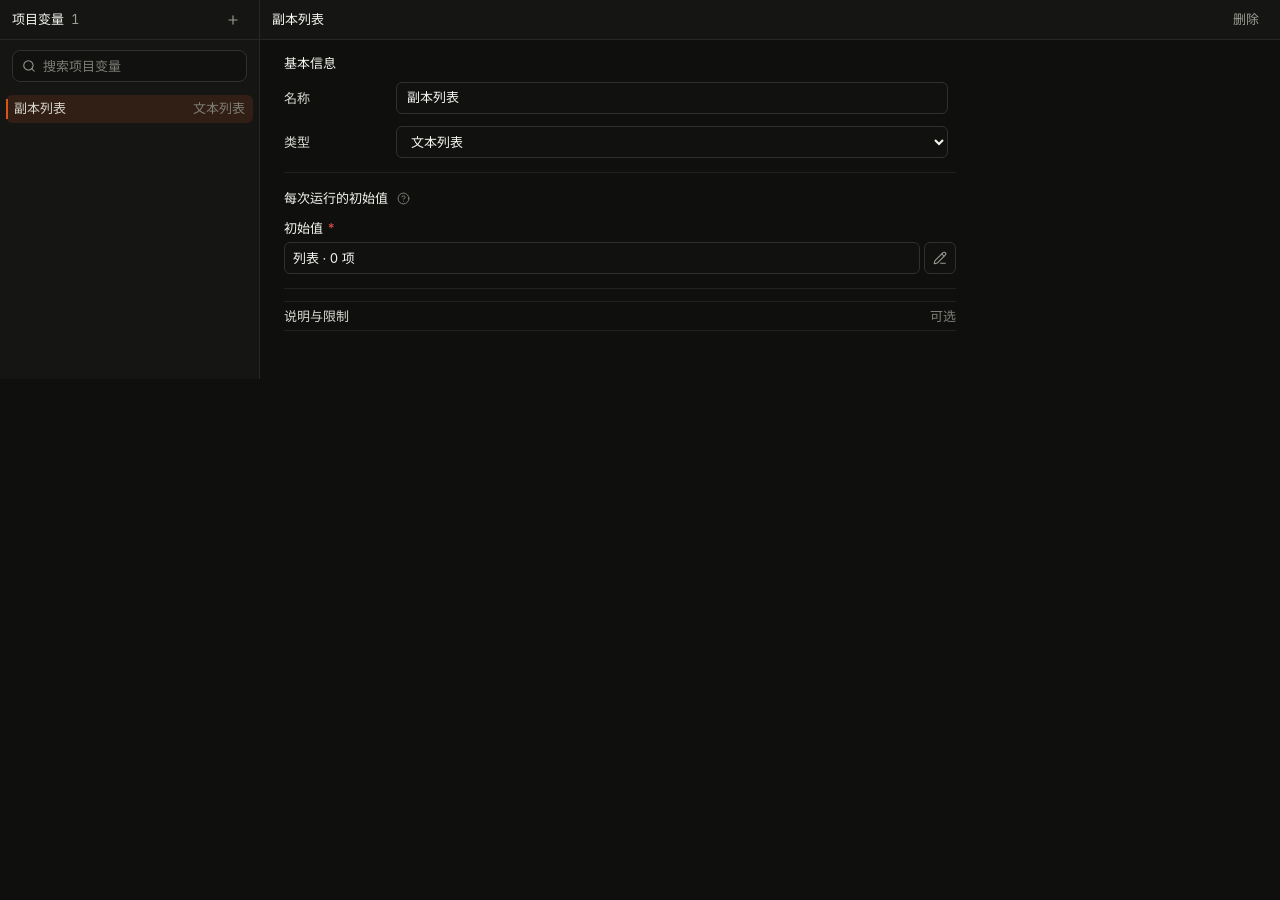
Test: VNextProjectVariableWorkspace › uses the same compact rows inside the create transaction without adding an intermediate form
Click the button named "新建项目变量": (233, 20) [219,6,247,34]
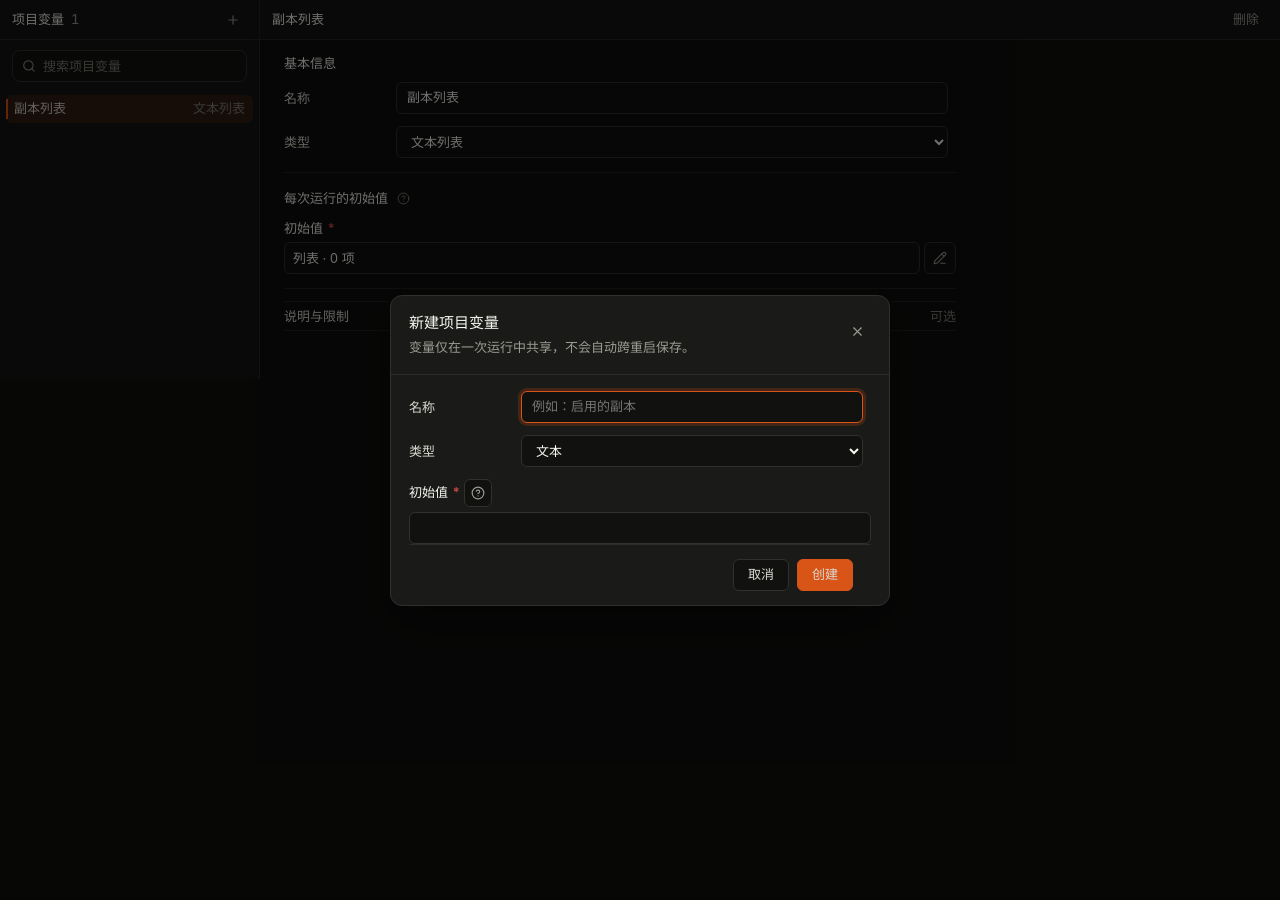
Result: the element showing "初始值 *" is shown at [409,478,871,544]
